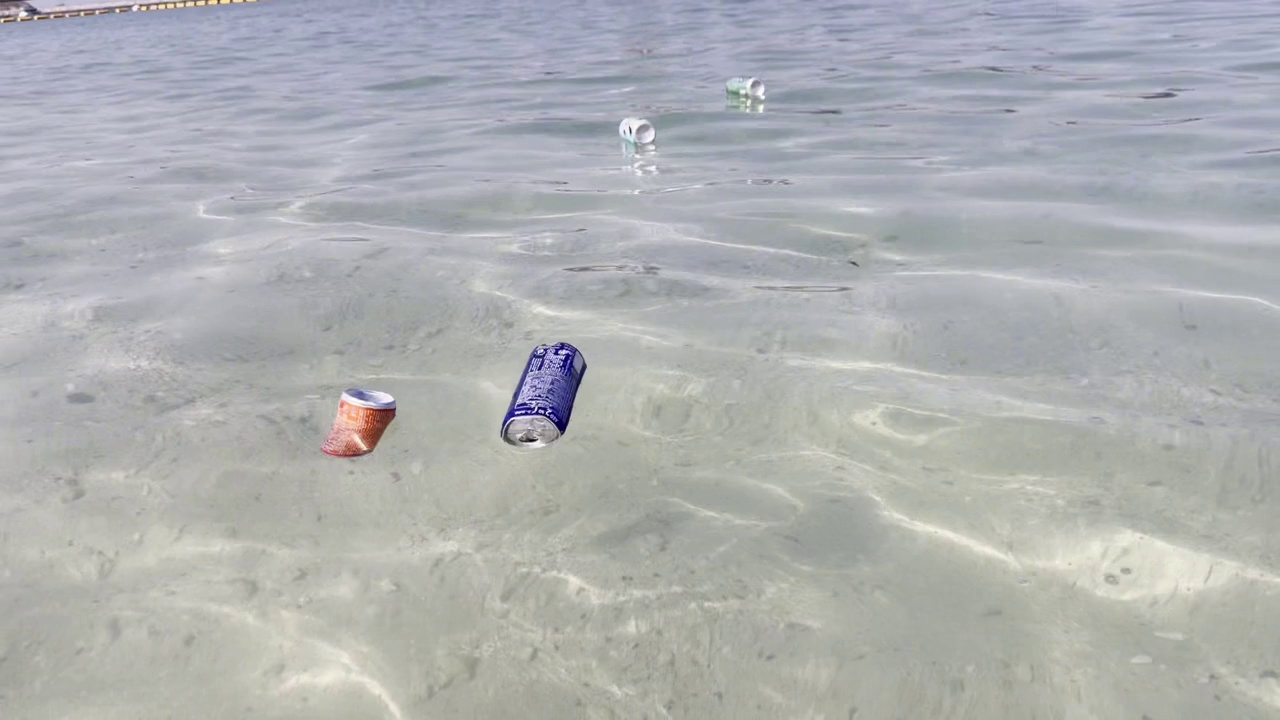debris: (494, 326, 587, 454), (313, 379, 406, 460), (617, 112, 662, 144), (725, 73, 771, 102)
